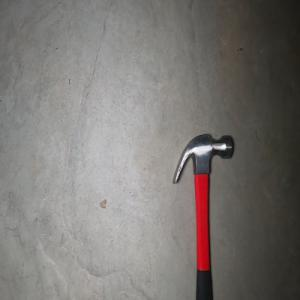Hammer: (171, 132, 233, 300)
